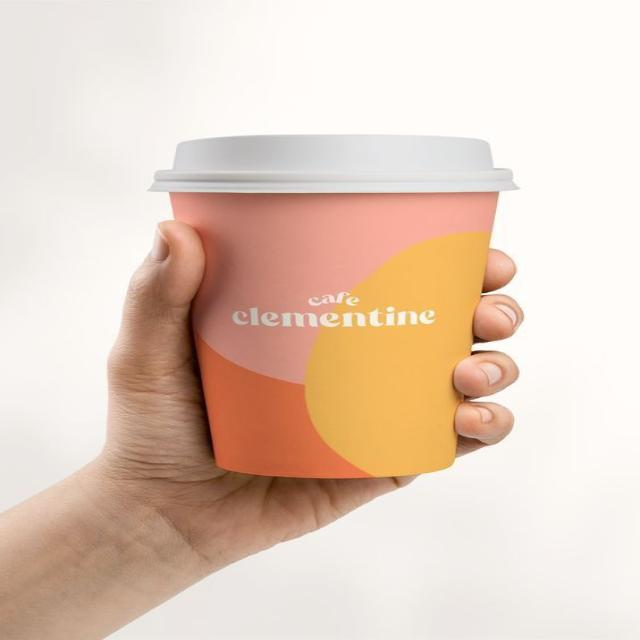paper cup: (148, 134, 522, 477)
